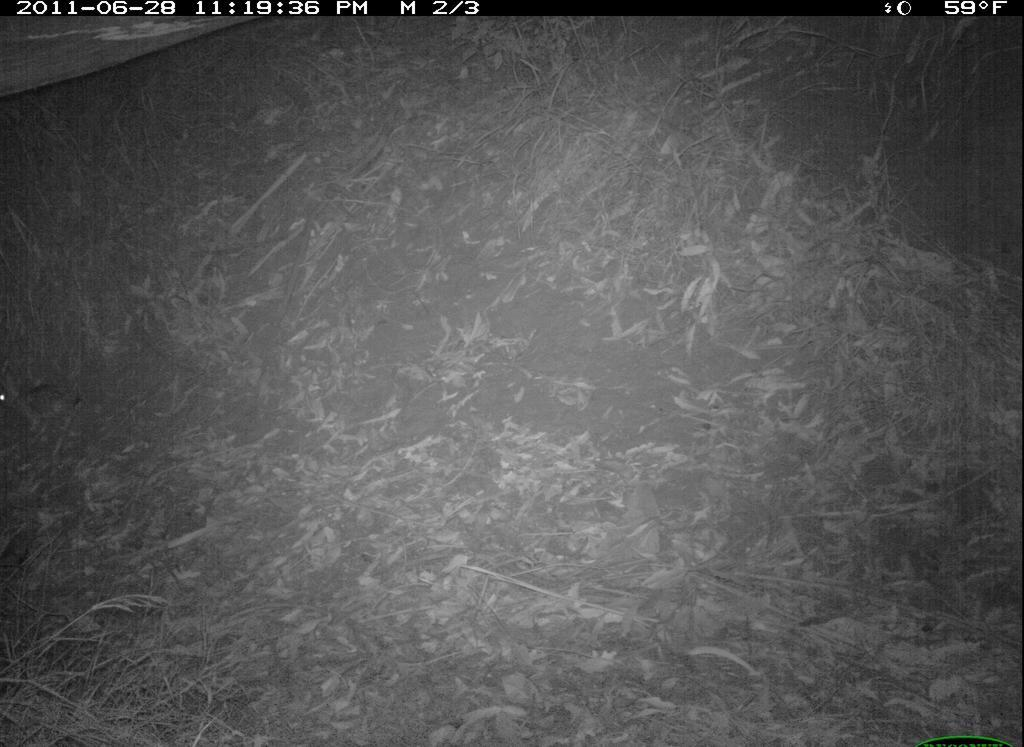rabbit: (1, 363, 86, 438)
